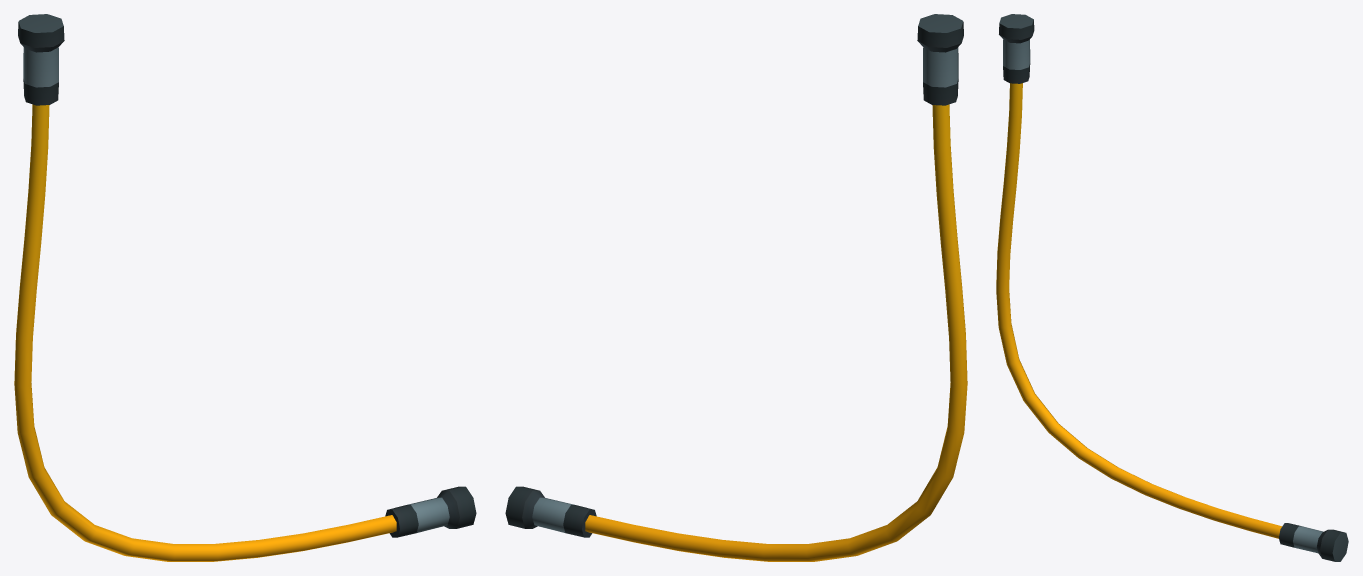
The model's file is Cable_type_C_007.fbx.
3 views of the same model, side by side, from view 1: azimuth 30°, elevation 25°; view 2: azimuth 150°, elevation 25°; view 3: azimuth 330°, elevation 25° (orthographic). The views are drawn at different scales.
Visible parts, largest first — view 1: Cable_type_C_007; view 2: Cable_type_C_007; view 3: Cable_type_C_007.
Part boxes in pixels (x1,y1,x2,y2): Cable_type_C_007: (14, 14, 476, 561); Cable_type_C_007: (505, 14, 967, 561); Cable_type_C_007: (996, 14, 1348, 561).
Size of the model in its own units: 96.55 by 8.91 by 123.
